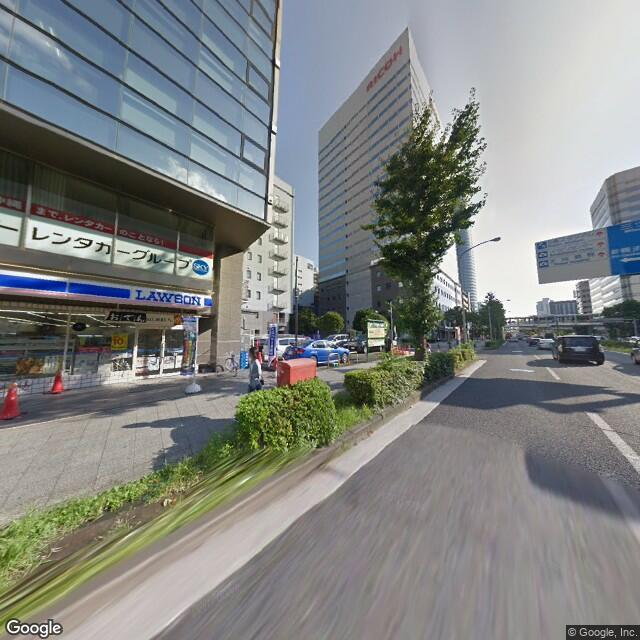lawson: (1, 267, 214, 316)
